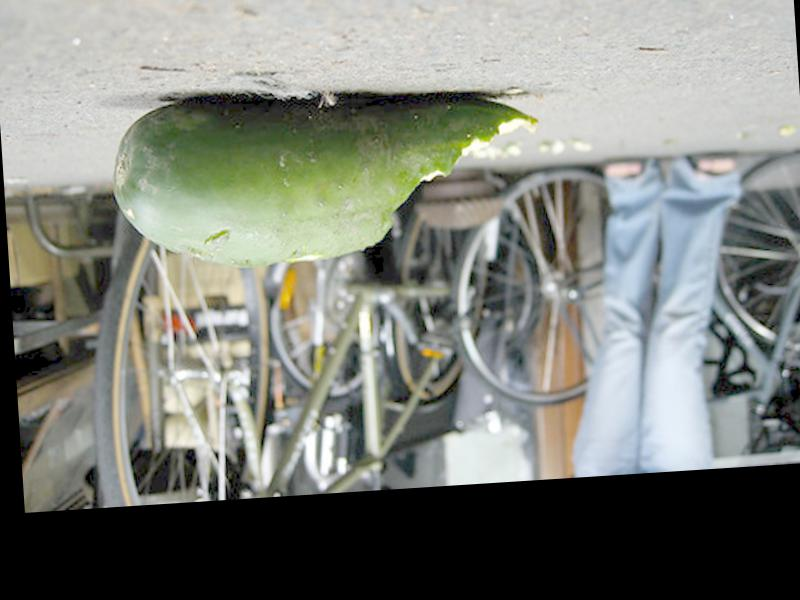Cucumber: (110, 80, 551, 273)
